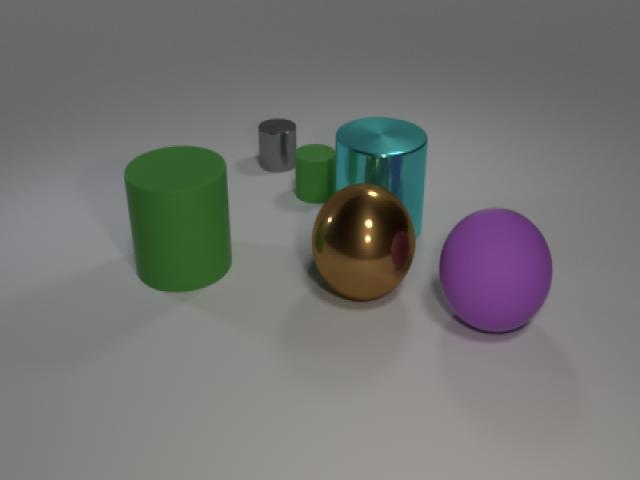cylinder: (119, 141, 238, 296), (331, 112, 425, 245), (294, 139, 334, 204), (256, 113, 296, 175)
round ball: (433, 199, 557, 340), (308, 180, 418, 304)
